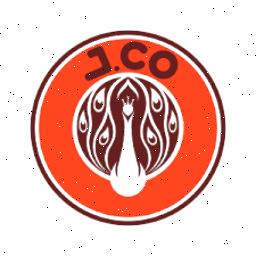c: (120, 37, 148, 71)
j: (79, 44, 113, 82)
o: (148, 48, 180, 80)
